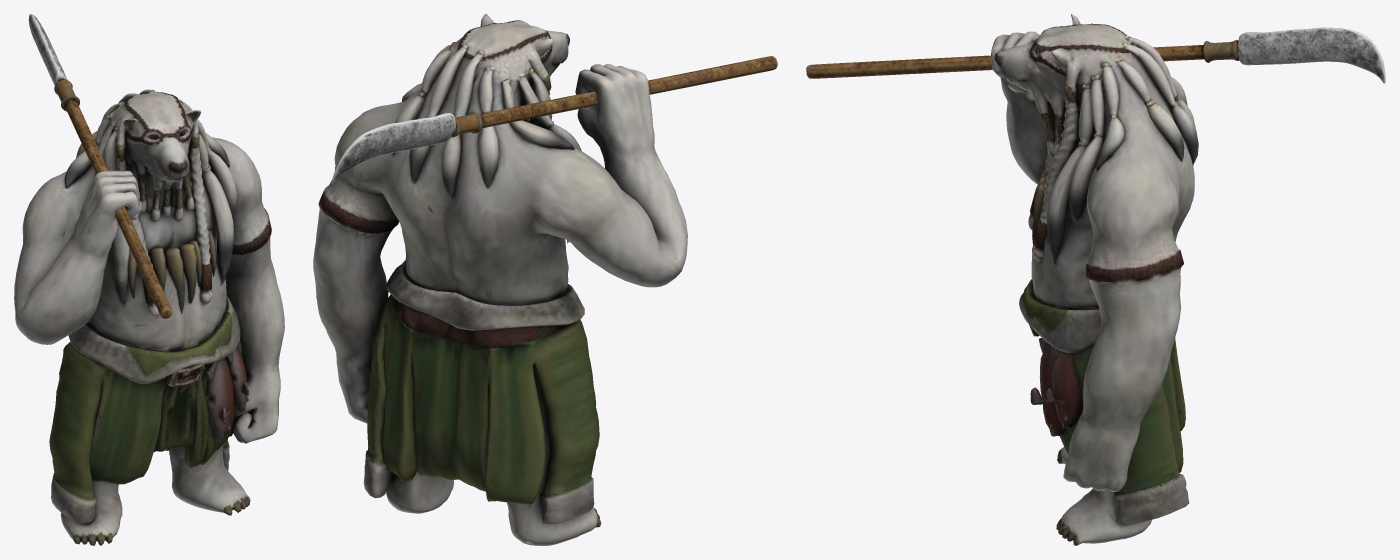
The model's file is MZ4250 - Werebear_Glaive.glb.
The picture shows the model from 3 angles, left to right: view 1: azimuth 30°, elevation 25°; view 2: azimuth 150°, elevation 25°; view 3: azimuth 270°, elevation 25°; orthographic projection. The views are drawn at different scales.
Visible parts, largest first — view 1: Glaive.001; view 2: Glaive.001; view 3: Glaive.001.
Boxes of the visible parts, x1,y1,x2,y2 form: Glaive.001: (14, 14, 284, 545); Glaive.001: (313, 14, 777, 545); Glaive.001: (806, 14, 1385, 545).
Size of the model in its own units: 86.98 by 122 by 136.
2 materials, 2 textured.
